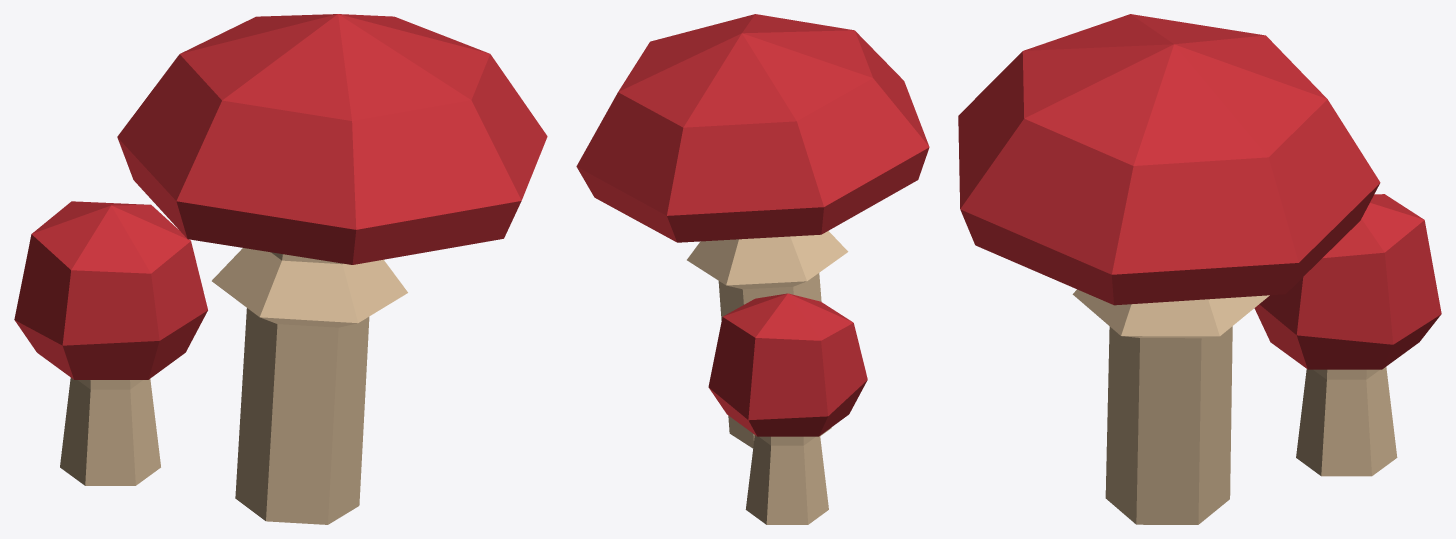
File: mushroom2.glb
The picture shows the model from 3 angles, left to right: view 1: azimuth 30°, elevation 25°; view 2: azimuth 150°, elevation 25°; view 3: azimuth 270°, elevation 25°; orthographic projection. The views are drawn at different scales.
Visible parts, largest first — view 1: huitugou_2159_281; view 2: huitugou_2159_281; view 3: huitugou_2159_281.
Part boxes in pixels (x1,y1,x2,y2): huitugou_2159_281: (14, 14, 547, 524); huitugou_2159_281: (576, 14, 929, 524); huitugou_2159_281: (958, 14, 1441, 524).
Bounding box in the file's own units: 0.268 × 0.3143 × 0.2853.
1 material, 1 textured.
